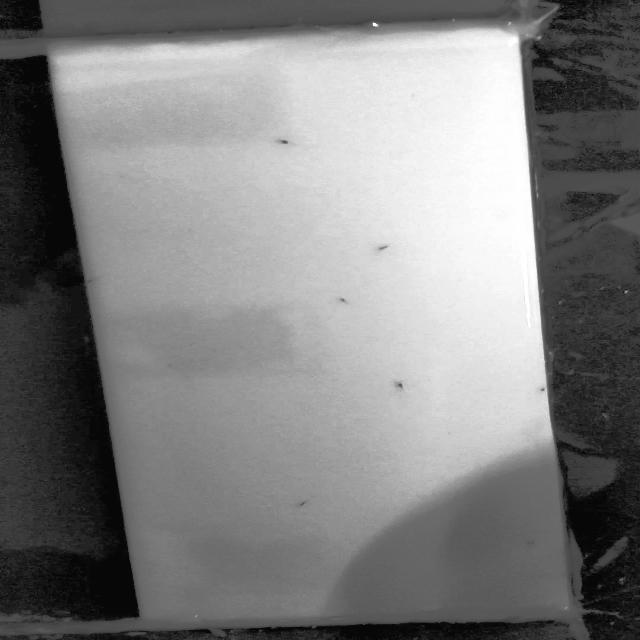shrimp: (382, 369, 419, 395), (501, 536, 553, 551), (334, 291, 366, 314), (260, 134, 300, 152), (363, 241, 405, 258), (282, 493, 324, 510)
